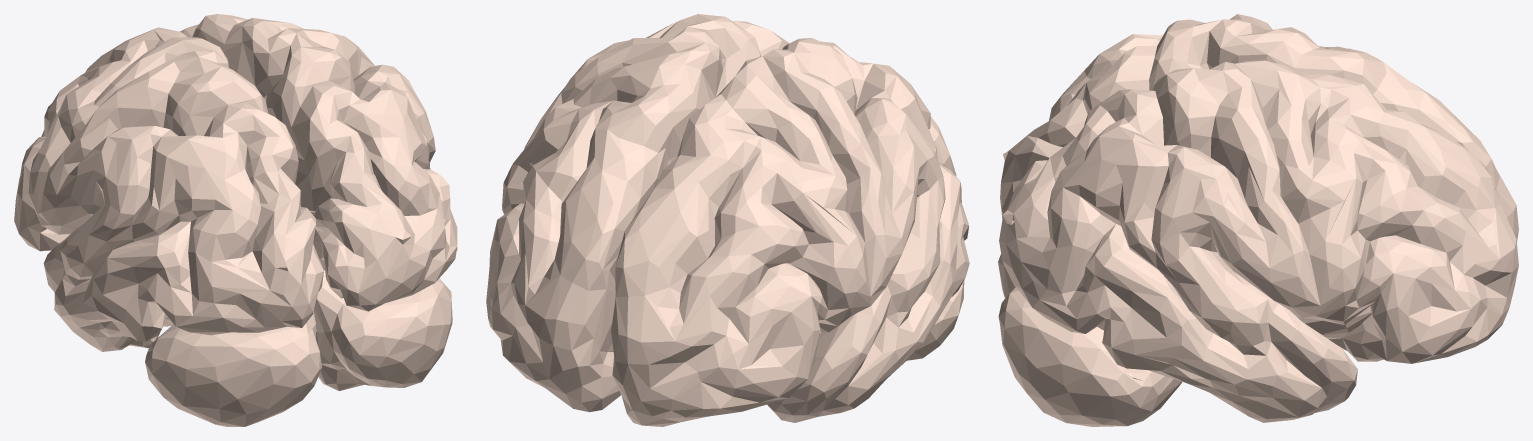
The model's file is brain_final.glb.
3 views of the same model, side by side, from view 1: azimuth 30°, elevation 25°; view 2: azimuth 150°, elevation 25°; view 3: azimuth 270°, elevation 25° (orthographic). The views are drawn at different scales.
Visible parts, largest first — view 1: Free_Brain.obj; view 2: Free_Brain.obj; view 3: Free_Brain.obj.
Part boxes in pixels (left/top/right/bottom): Free_Brain.obj: left=14, top=14, right=457, bottom=426; Free_Brain.obj: left=486, top=14, right=969, bottom=426; Free_Brain.obj: left=998, top=14, right=1518, bottom=426.
Bounding box in the file's own units: 1.69 × 1.43 × 2.
